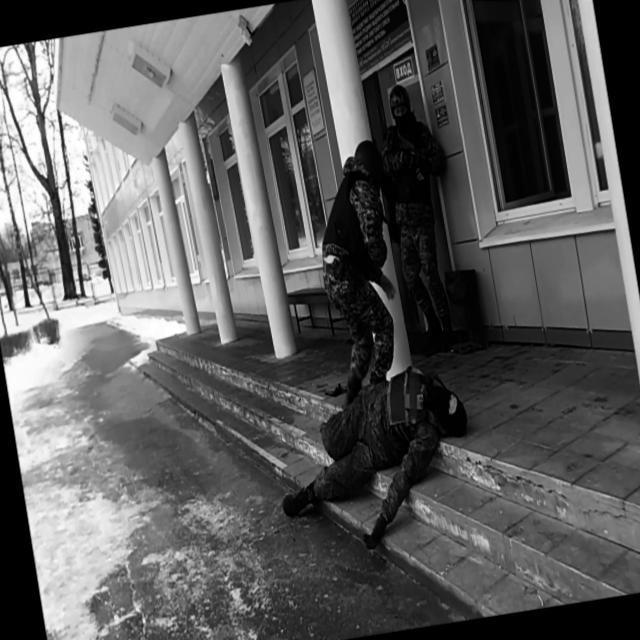gun: (388, 121, 431, 176), (339, 250, 364, 298)
person: (265, 360, 486, 564)
person with a gun: (302, 136, 420, 405), (370, 78, 477, 359)
